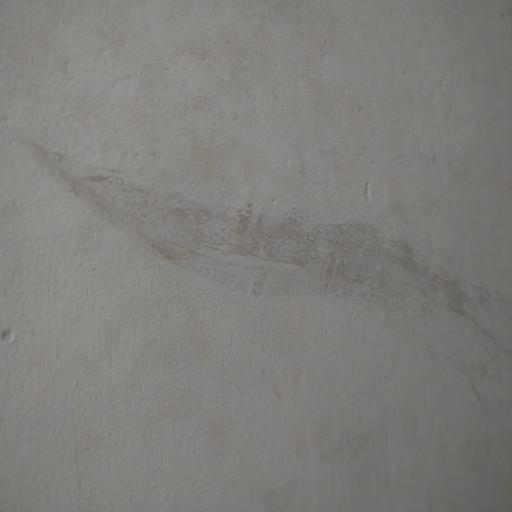stain: (26, 127, 502, 346)
